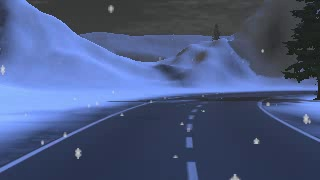Lane: (0, 91, 318, 179)
